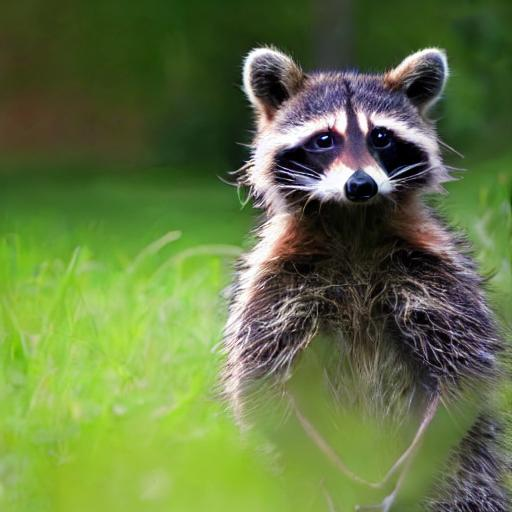raccoon: (212, 34, 512, 512)
